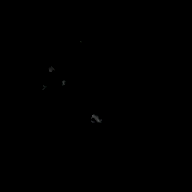v: (38, 64, 65, 91)
